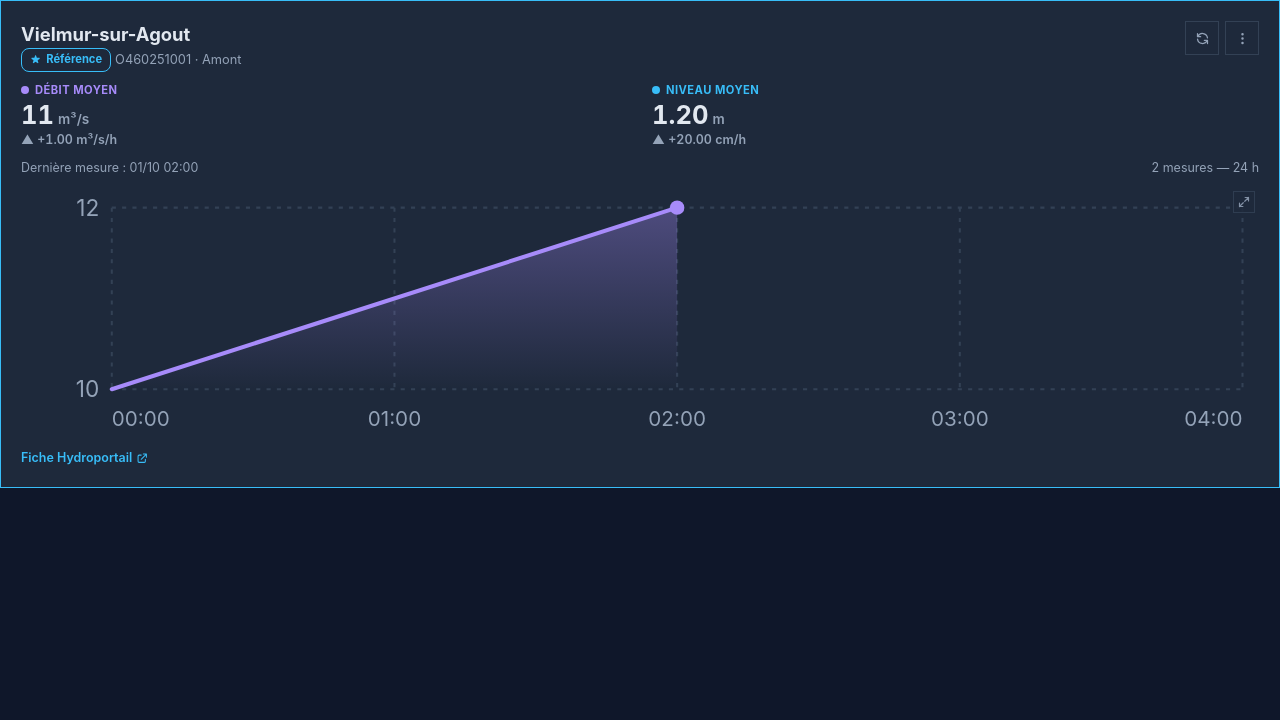
Scenario: StationCard › station de référence : seuils d’exploitation en lecture seule › affiche les seuils sans champ d’édition, avec un lien vers la configuration
Click the button named "Réglages des seuils" at (1242, 38), box [1225,21,1259,55]
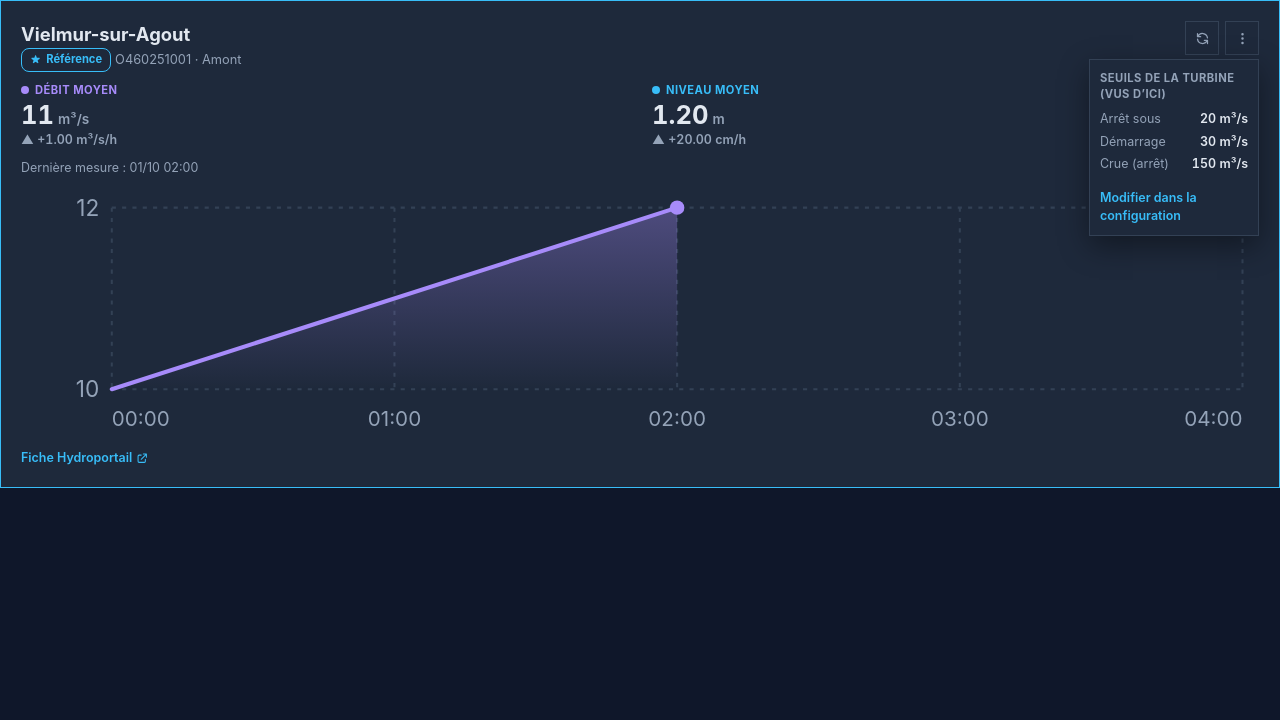
Result: the text with class "card__dropdown-title" reads "Seuils de la turbine (vus d’ici)" at [1100,71,1234,101]
Result: the element with class "card__readonly" shows "20 m³/s" at [1200,112,1248,126]
Result: the element with class "card__readonly" shows "30 m³/s" at [1200,134,1248,149]
